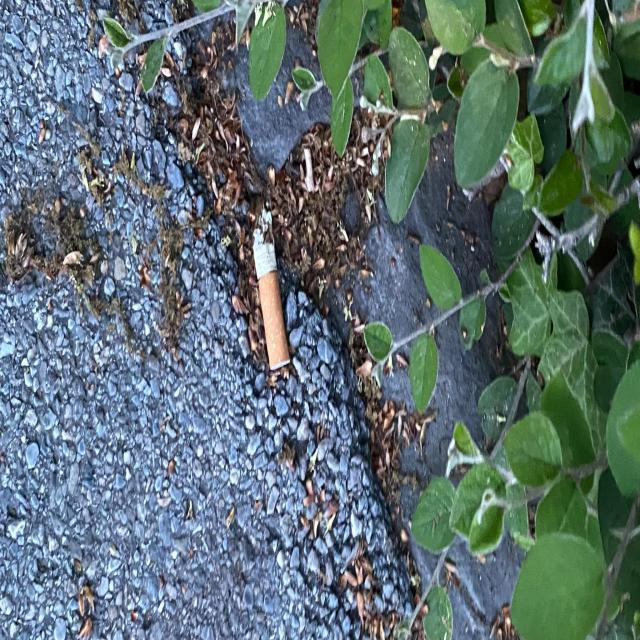other waste: (252, 200, 290, 371)
